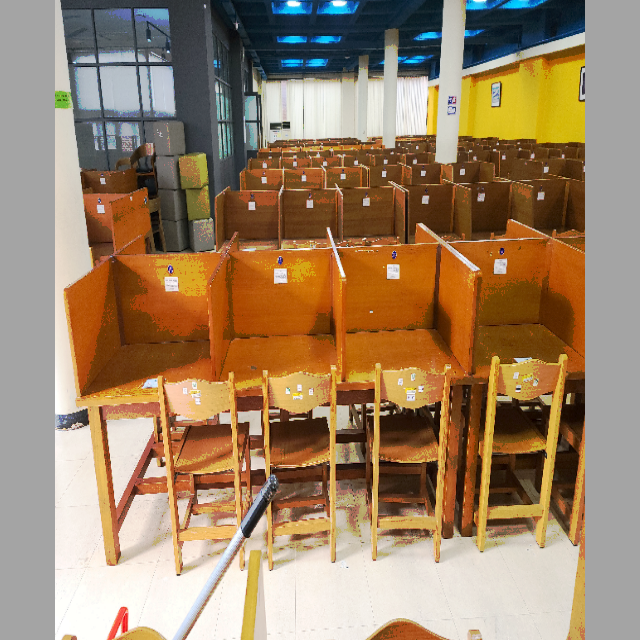empty: (69, 231, 210, 467), (346, 225, 471, 444), (216, 228, 340, 444)
